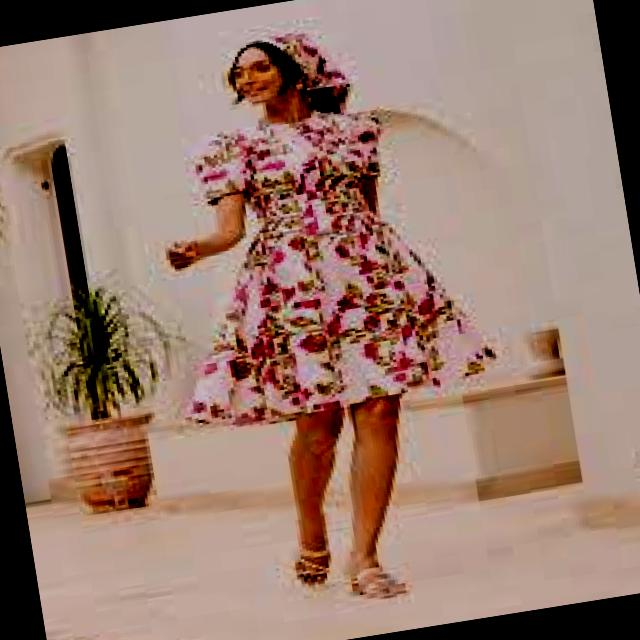dress: (185, 112, 496, 425)
